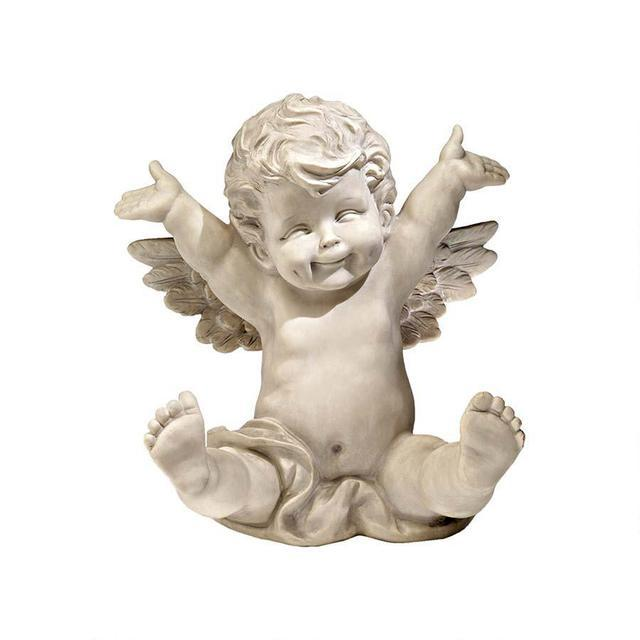person-like: (110, 86, 538, 555)
